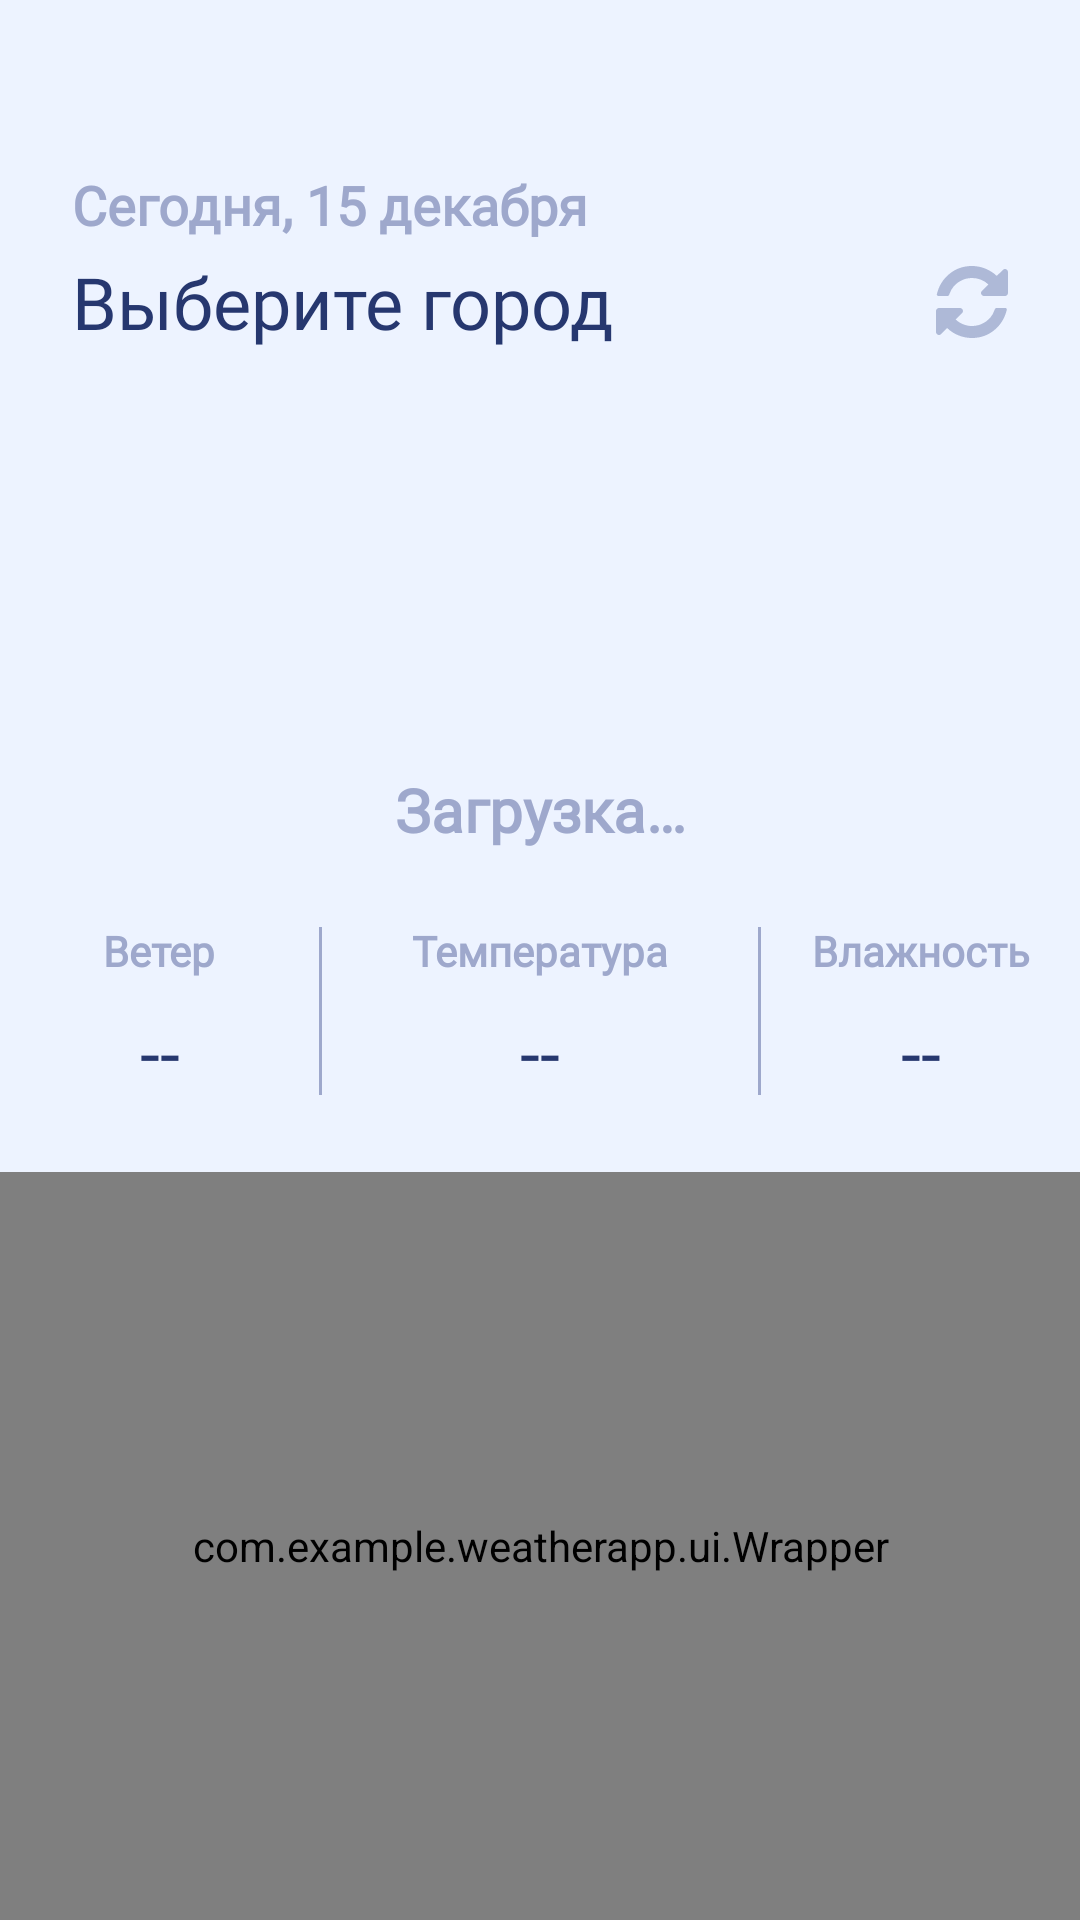

Screen size 1080 x 1920. Icon name, then its center in pixels as (x=x, y=y):
refresh: (x=972, y=302)
